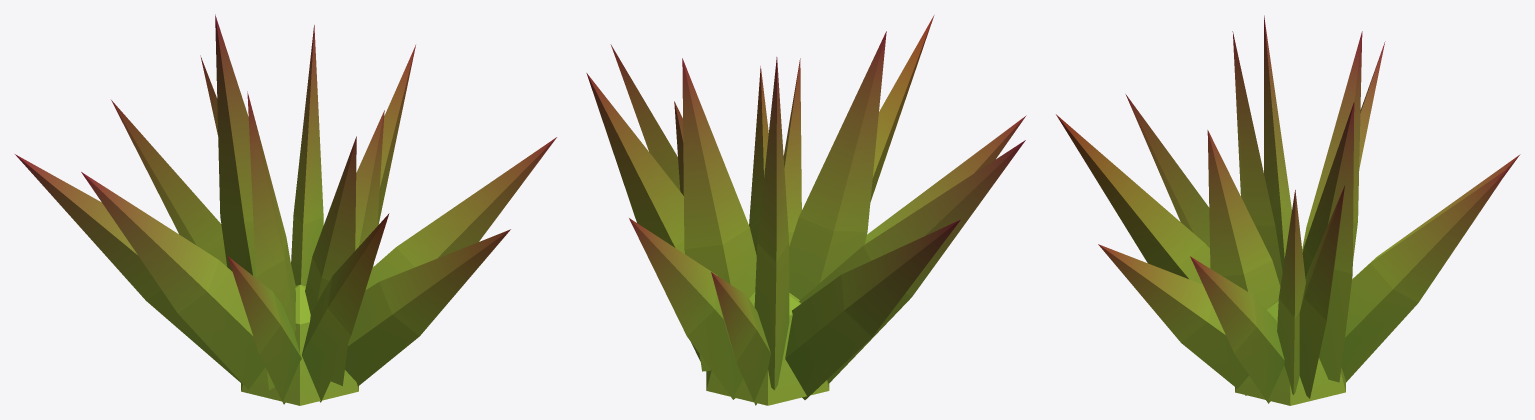
The model's file is Desert_Agave_01.glb.
3 renders of one model, left to right at view 1: azimuth 30°, elevation 25°; view 2: azimuth 150°, elevation 25°; view 3: azimuth 270°, elevation 25°, orthographic. The views are drawn at different scales.
Parts seen in each view (by area): view 1: Desert_Agave_01; view 2: Desert_Agave_01; view 3: Desert_Agave_01.
Boxes of the visible parts, x1=… form: Desert_Agave_01: x1=15, y1=14, x2=556, y2=405; Desert_Agave_01: x1=586, y1=15, x2=1026, y2=405; Desert_Agave_01: x1=1056, y1=15, x2=1520, y2=405.
Bounding box in the file's own units: 0.8952 × 0.6867 × 0.8697.
